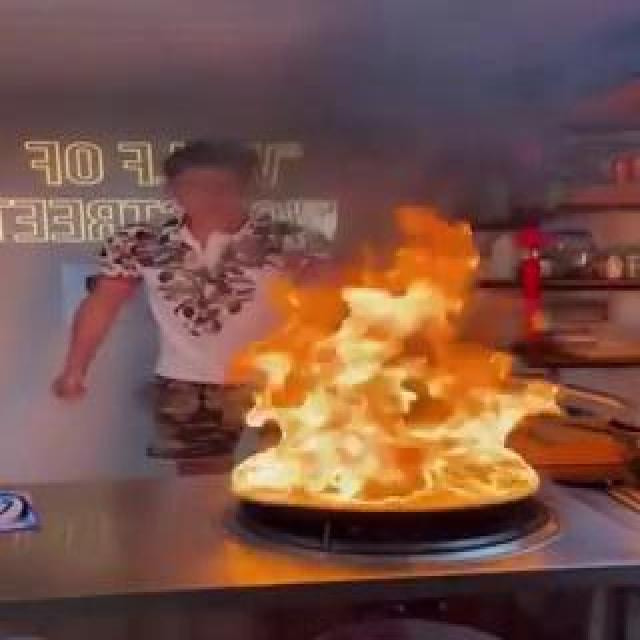Fire: (227, 148, 575, 519)
